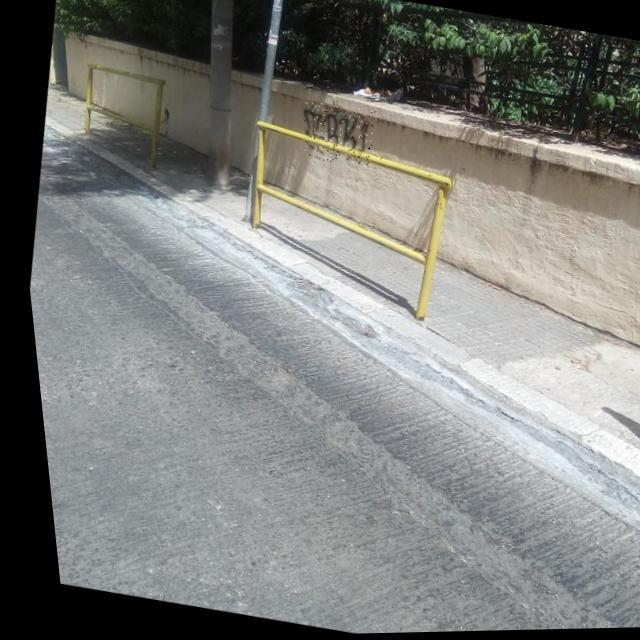-: (292, 100, 378, 172)
